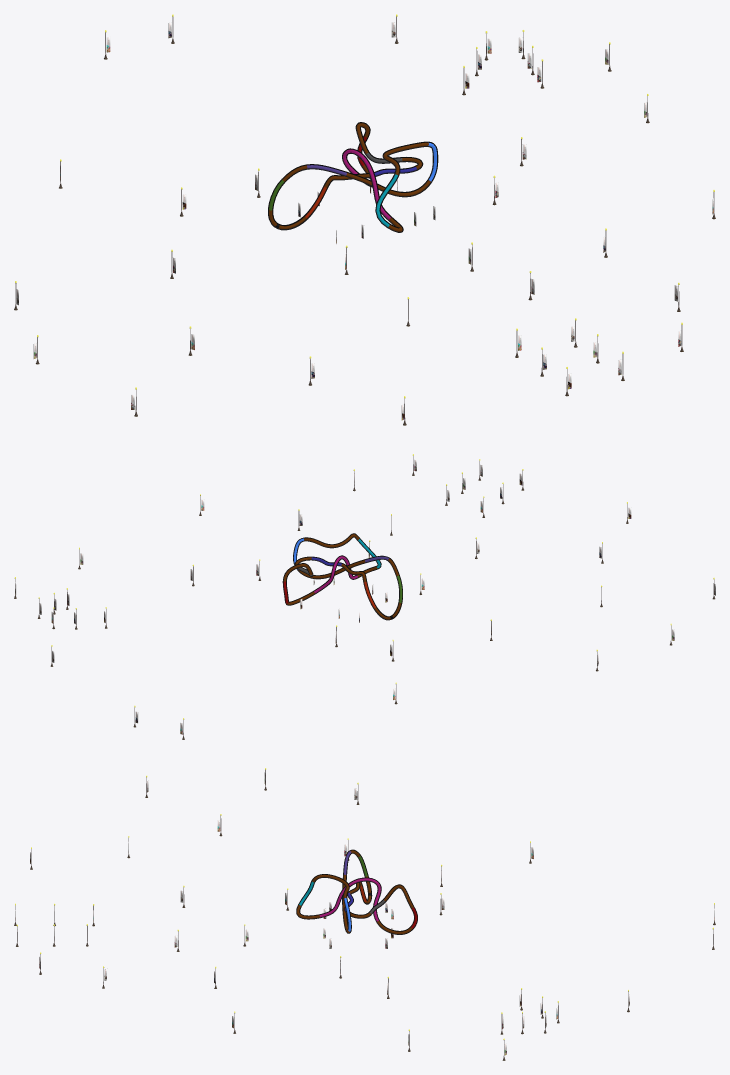
File: art_banners.glb
3 views of the same model, one above another, from view 1: azimuth 30°, elevation 25°; view 2: azimuth 150°, elevation 25°; view 3: azimuth 270°, elevation 25° (orthographic). The views are drawn at different scales.
Visible parts, largest first — view 1: NurbsPath; view 2: NurbsPath; view 3: NurbsPath.
Part boxes in pixels (box(x1,y1,x2,y2)): NurbsPath: box(268, 122, 438, 232); NurbsPath: box(282, 533, 402, 620); NurbsPath: box(296, 849, 417, 934).
Size of what is drawn, in the model's own units: 271 by 28.8 by 295.
Materials: 3 (3 with a texture image).
